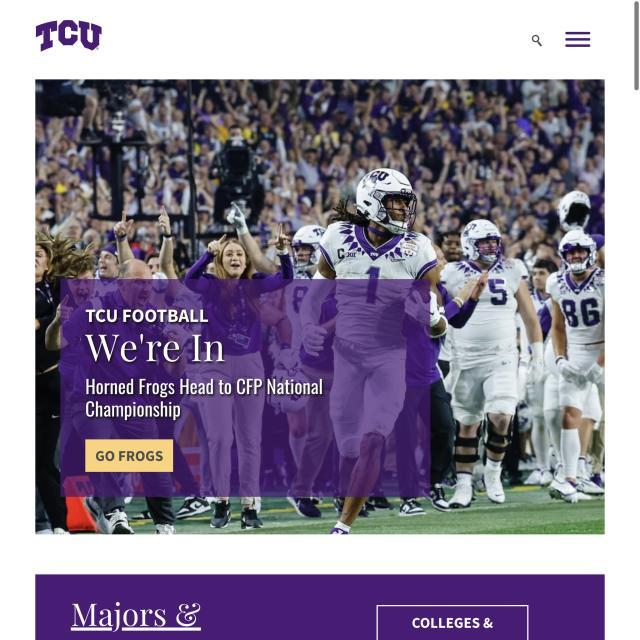modal: (53, 269, 443, 506)
